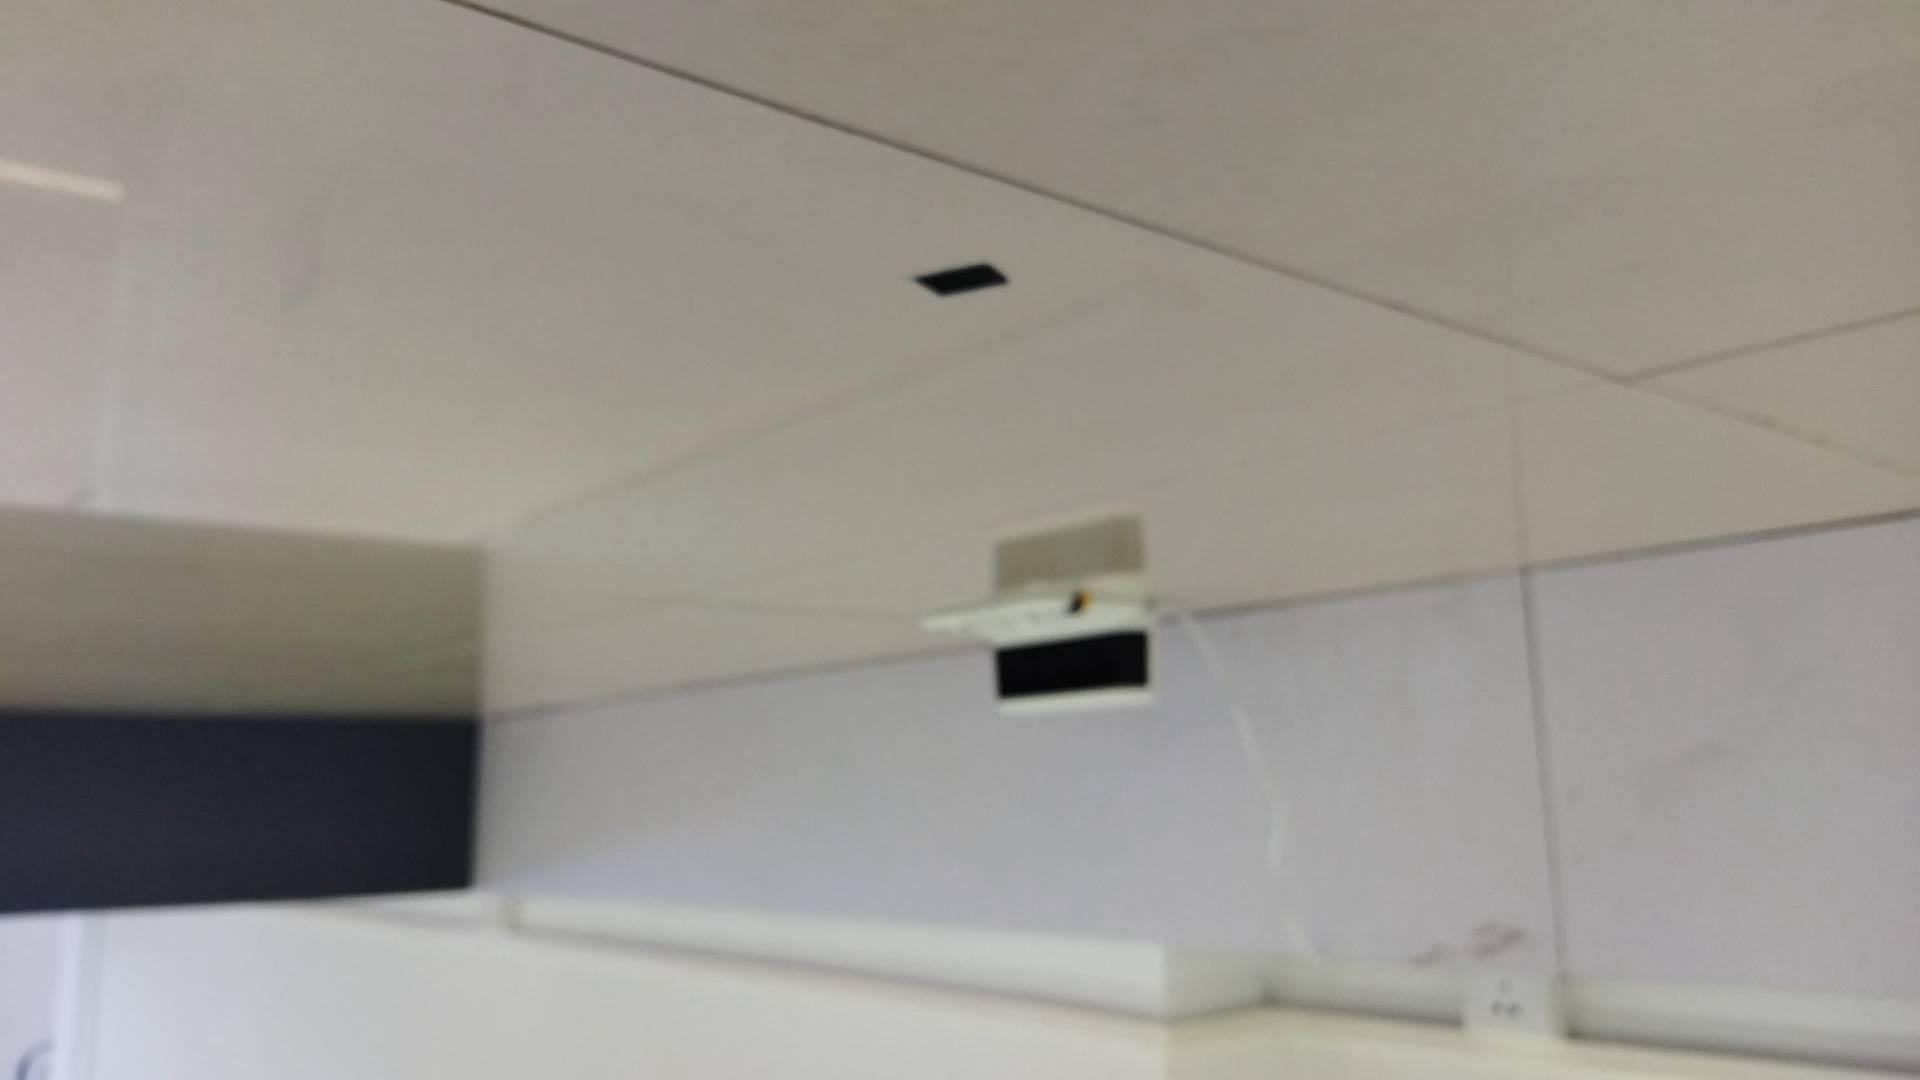recharge seat: (910, 571, 1168, 717)
